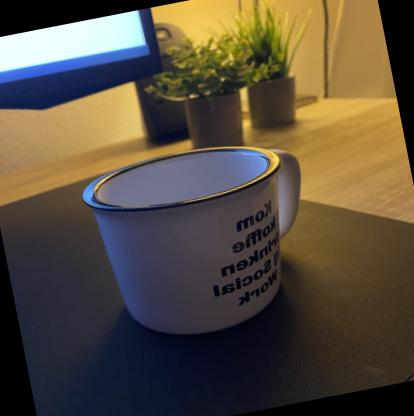Cup: (74, 127, 328, 355)
